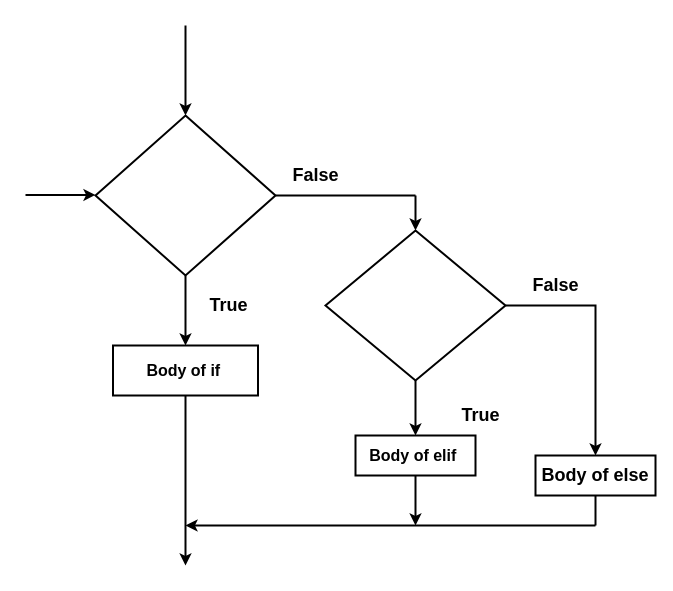
Some shapes in this 673 by 591 pixel diagram are drawn without their labels. Here are the shapes that lost their labels. From the top down, the centre of each, then its label:
At pixel 185 195: "Test expression of if".
At pixel 415 305: "Test expression of elif".
